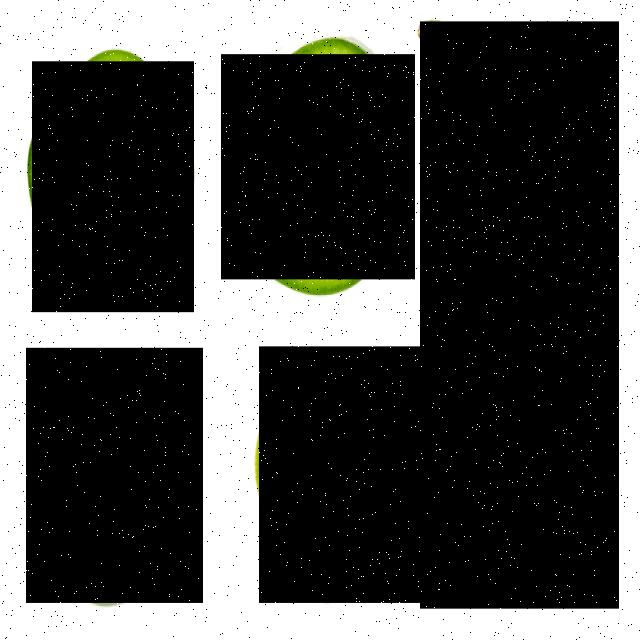Chili_Pepper: (420, 22, 619, 610), (260, 348, 438, 604), (26, 349, 203, 604), (221, 54, 415, 280), (32, 62, 194, 314)
